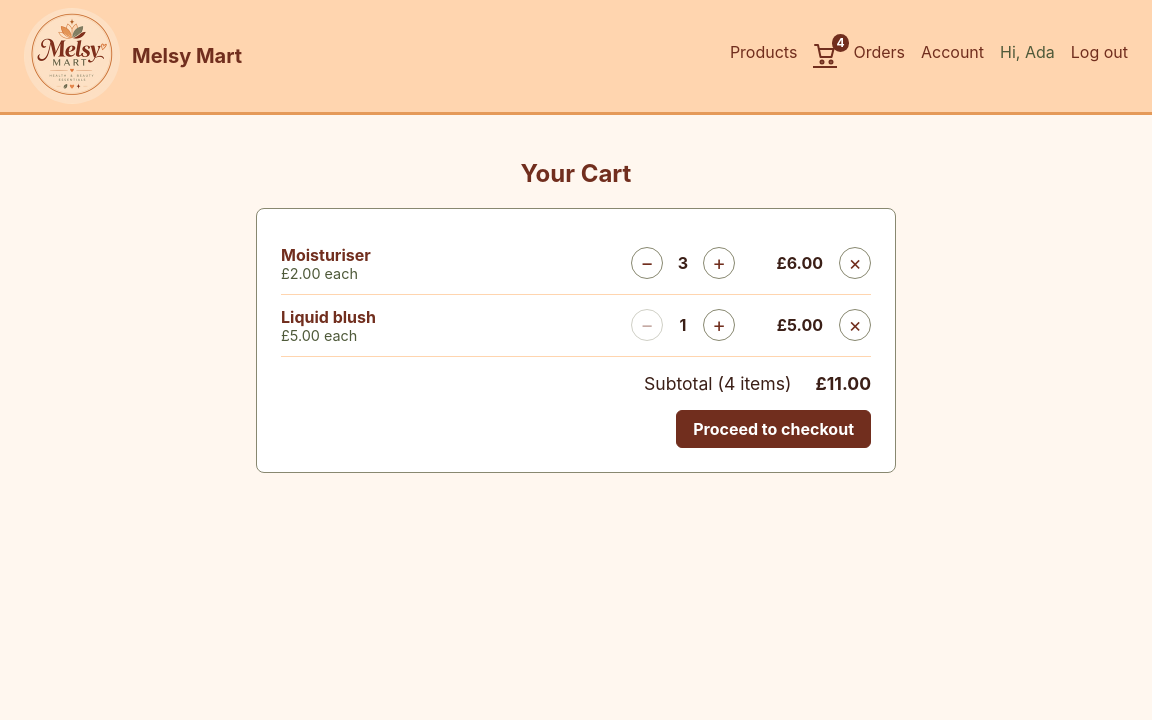
Test case: a new change clears the row's old message
Check: the heading "Your Cart" is shown, box [521,159,631,188]
Check: the text "Moisturiser" is shown, box [281,245,371,265]
Click the button named "Increase quantity of Moisturiser".
click(719, 263)  # box [703,247,735,279]
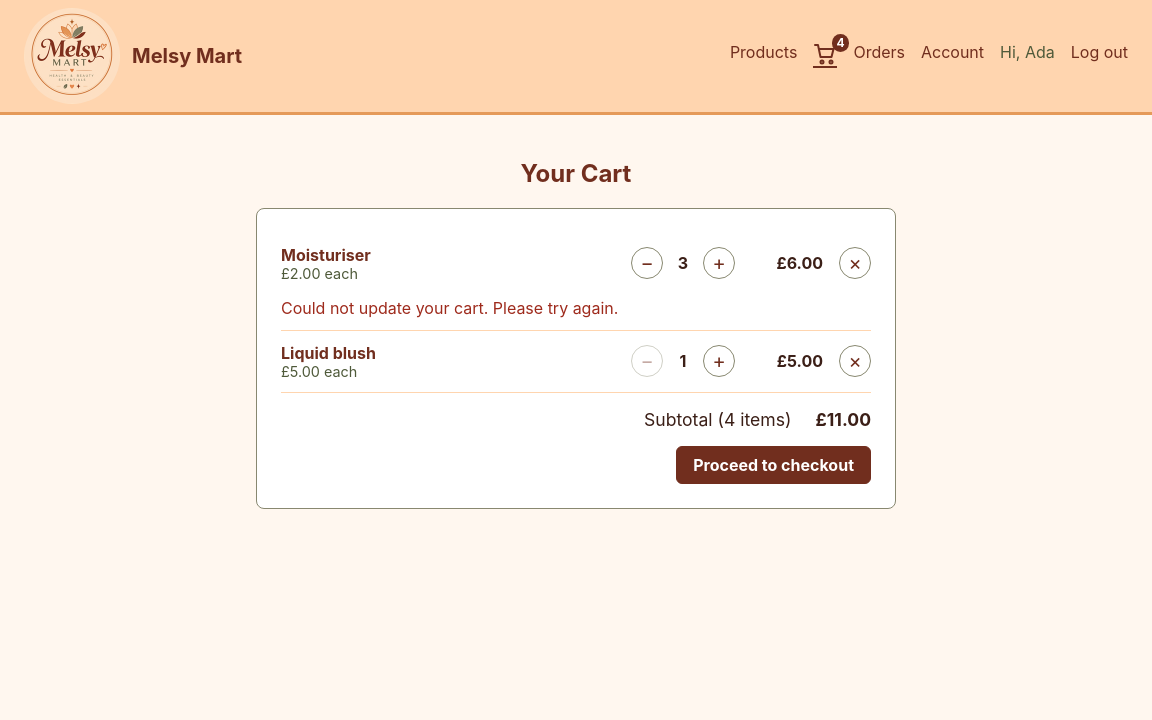
Check: the message "Could not update your cart. Please try again." is shown, box [281,298,618,318]
Click the button named "Increase quantity of Moisturiser".
click(719, 263)  # box [703,247,735,279]
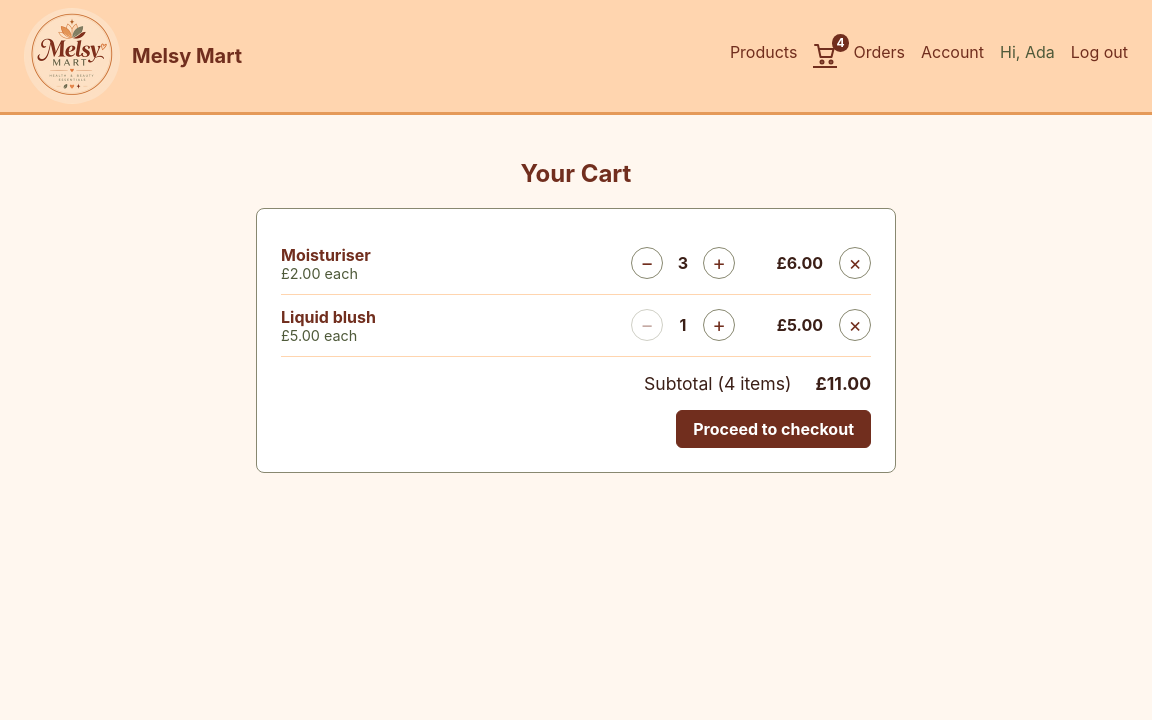
Check: the text named "Quantity of Moisturiser: 3" is shown, box [678,253,688,273]
Check: the message "Could not update your cart. Please try again." is gone
